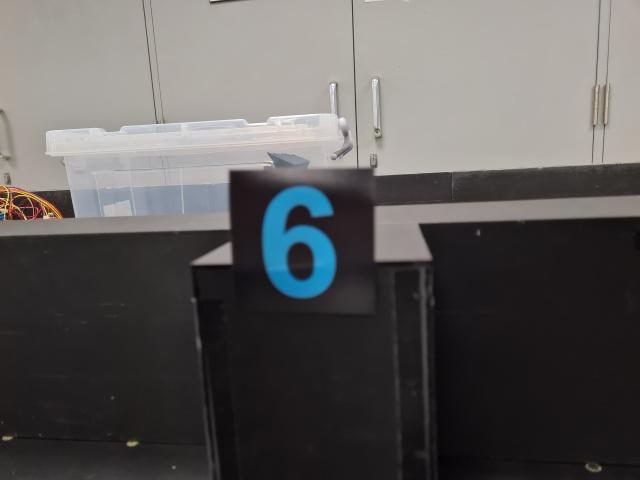six: (230, 168, 381, 318)
